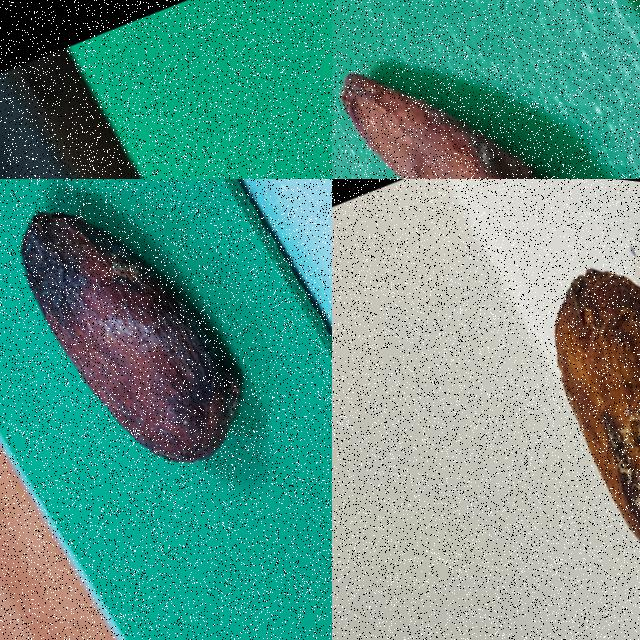Fine_cocoabeans: (0, 179, 331, 639), (462, 193, 639, 639)
Flat_cocoabeans: (332, 0, 639, 178), (176, 91, 331, 178)
